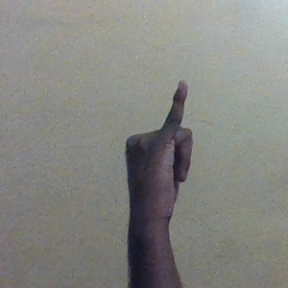I: (122, 79, 200, 224)
